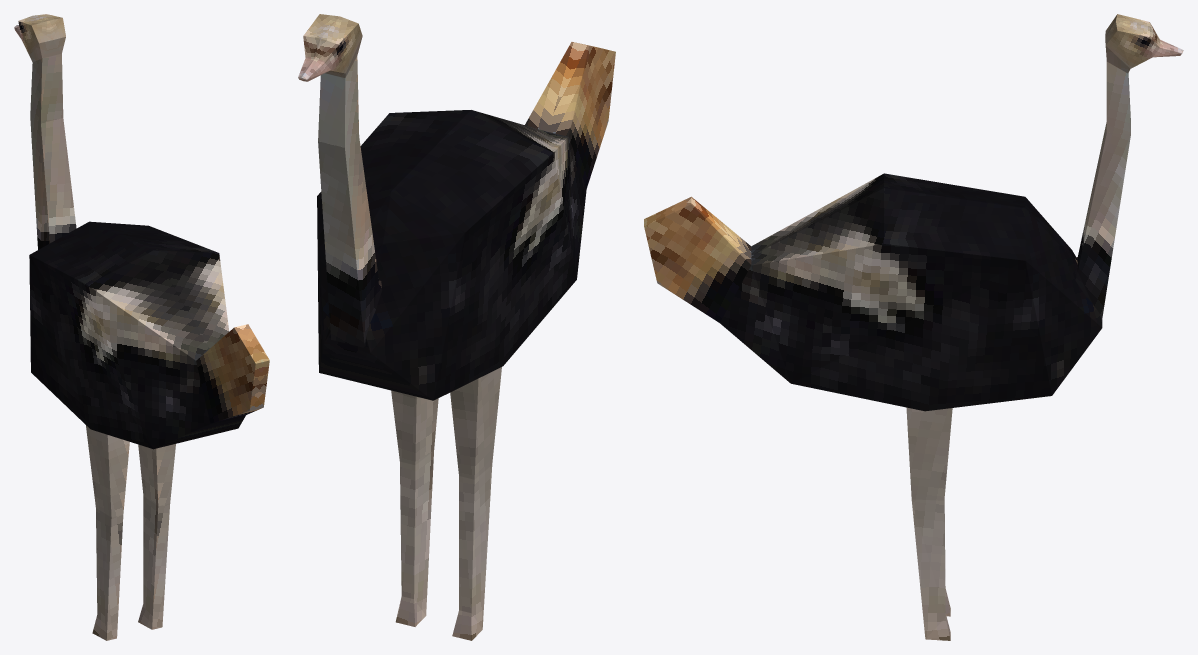
Rendered from Ostrich_Ostrich.glb.
3 views of the same model, side by side, from view 1: azimuth 30°, elevation 25°; view 2: azimuth 150°, elevation 25°; view 3: azimuth 270°, elevation 25° (orthographic). The views are drawn at different scales.
Parts seen in each view (by area): view 1: Body, Leg2, Leg1, Neck, Head; view 2: Body, Neck, Leg2, Leg1, Head; view 3: Body, Leg1, Neck, Head.
Part boxes in pixels (left/top/right/bottom): Body: left=29, top=221, right=269, bottom=449; Leg2: left=86, top=425, right=129, bottom=640; Leg1: left=138, top=444, right=175, bottom=629; Neck: left=30, top=116, right=76, bottom=249; Head: left=14, top=14, right=65, bottom=123; Body: left=317, top=42, right=615, bottom=400; Neck: left=318, top=136, right=382, bottom=347; Leg2: left=450, top=367, right=501, bottom=640; Leg1: left=391, top=390, right=438, bottom=626; Head: left=298, top=14, right=362, bottom=147; Body: left=644, top=173, right=1102, bottom=411; Leg1: left=906, top=407, right=952, bottom=640; Neck: left=1073, top=122, right=1130, bottom=321; Head: left=1105, top=14, right=1183, bottom=133.
Bounding box in the file's own units: 0.5021 × 2 × 1.62.
1 material, 1 textured.
